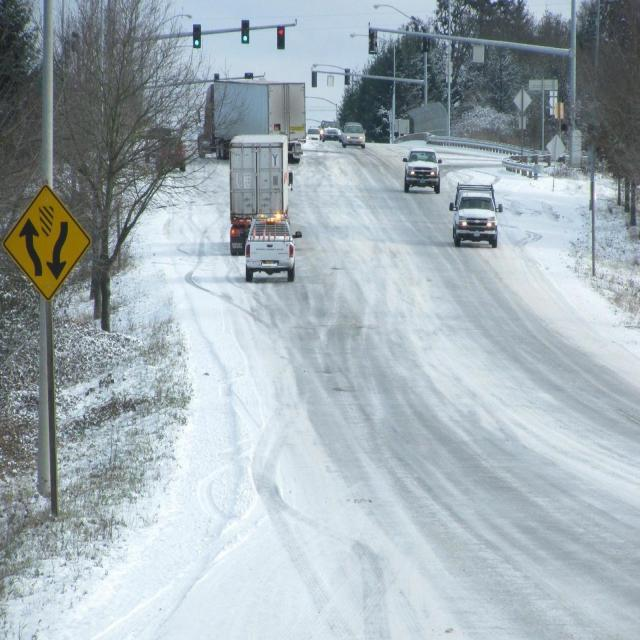Car: (241, 215, 303, 284), (448, 179, 504, 248), (402, 146, 443, 198), (342, 122, 367, 148), (322, 122, 342, 142)
Truck: (197, 80, 309, 162), (228, 134, 293, 247)
